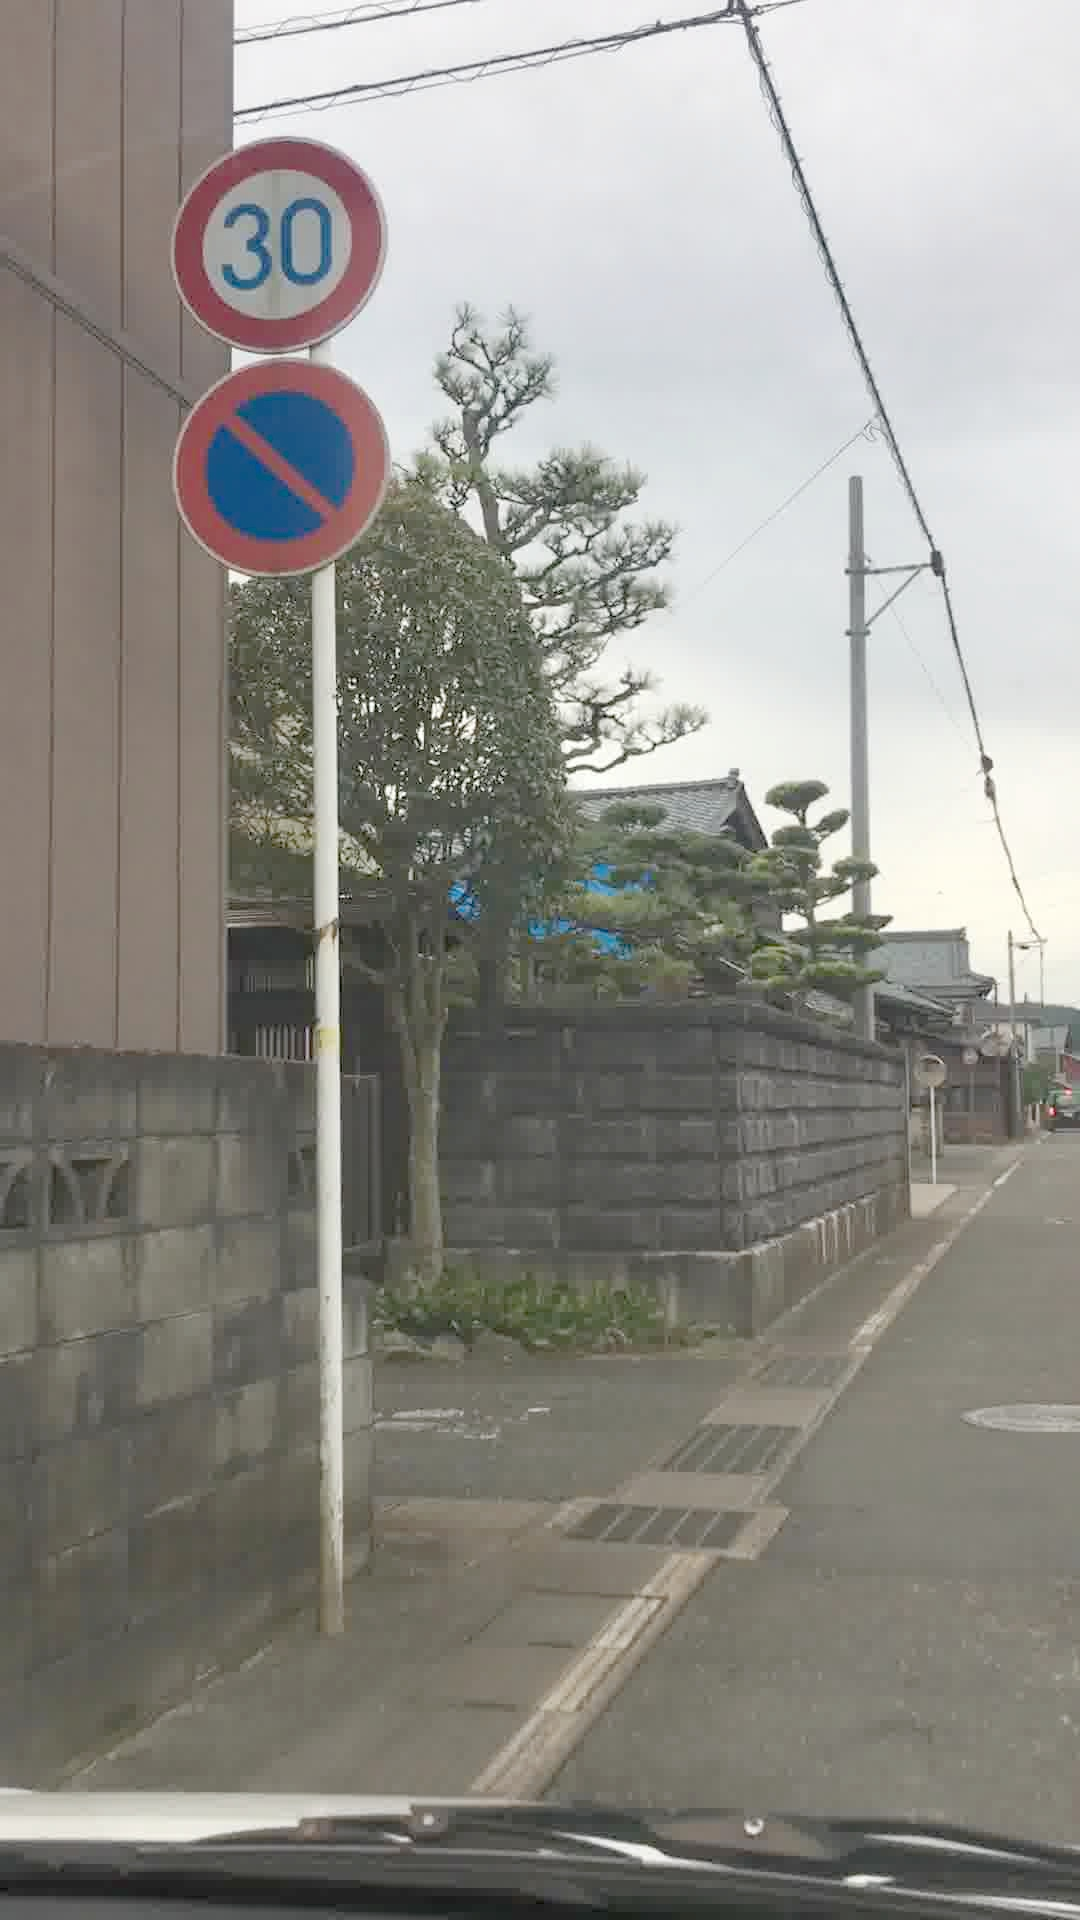Prohibition_sign: (179, 372, 436, 611)
Speed_sign: (140, 120, 406, 375)
